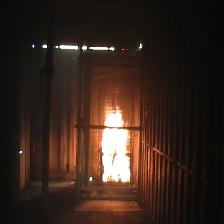fire: (102, 100, 130, 183)
